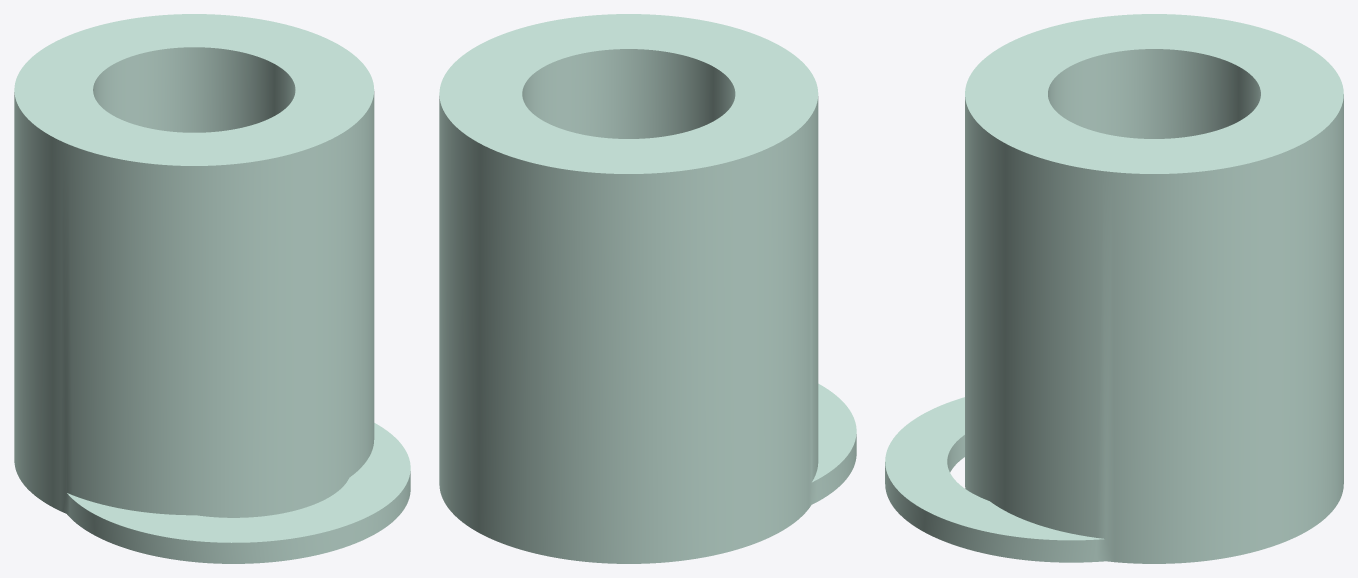
3 views of the same model, side by side, from view 1: azimuth 30°, elevation 25°; view 2: azimuth 150°, elevation 25°; view 3: azimuth 270°, elevation 25° (orthographic). The views are drawn at different scales.
Parts seen in each view (by area): view 1: Renderer Node; view 2: Renderer Node; view 3: Renderer Node.
Part boxes in pixels (<box>): Renderer Node: <box>14,14,410,563</box>; Renderer Node: <box>439,14,856,563</box>; Renderer Node: <box>885,14,1343,563</box>.
Bounding box in the file's own units: 0.4815 × 0.5469 × 0.5831.
